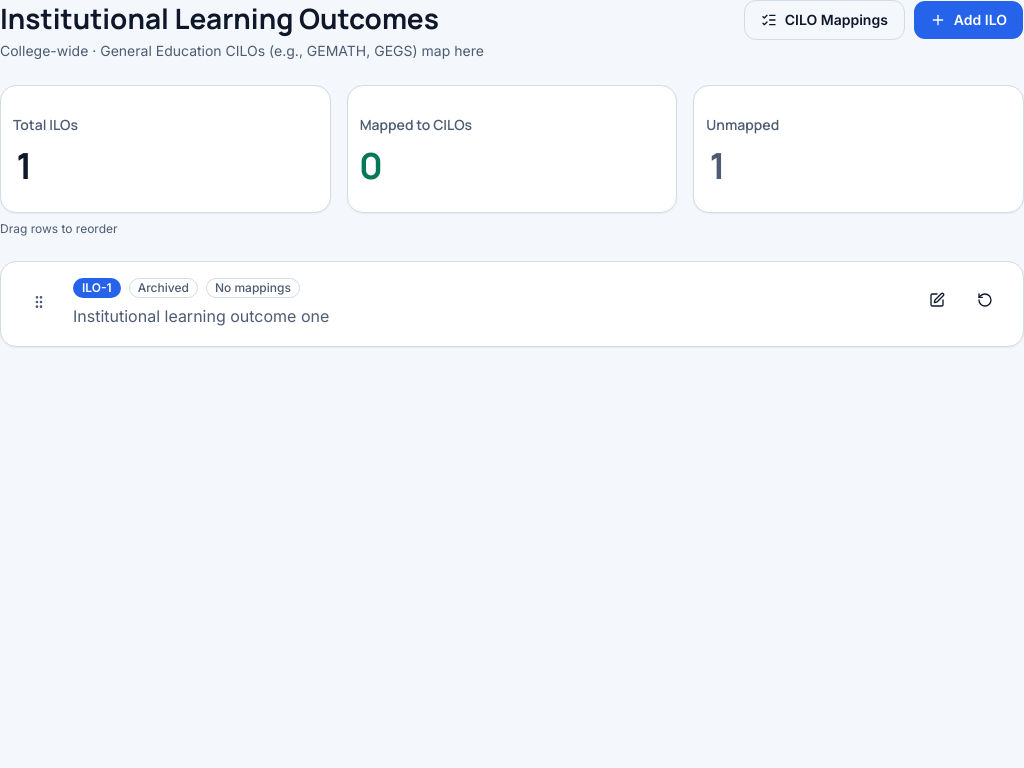
it: GenEdOutcomesPage › keeps restore dialog open and shows error when restore fails
Click the button named "Restore ILO-1".
click(985, 300)  # box [963,278,1007,322]
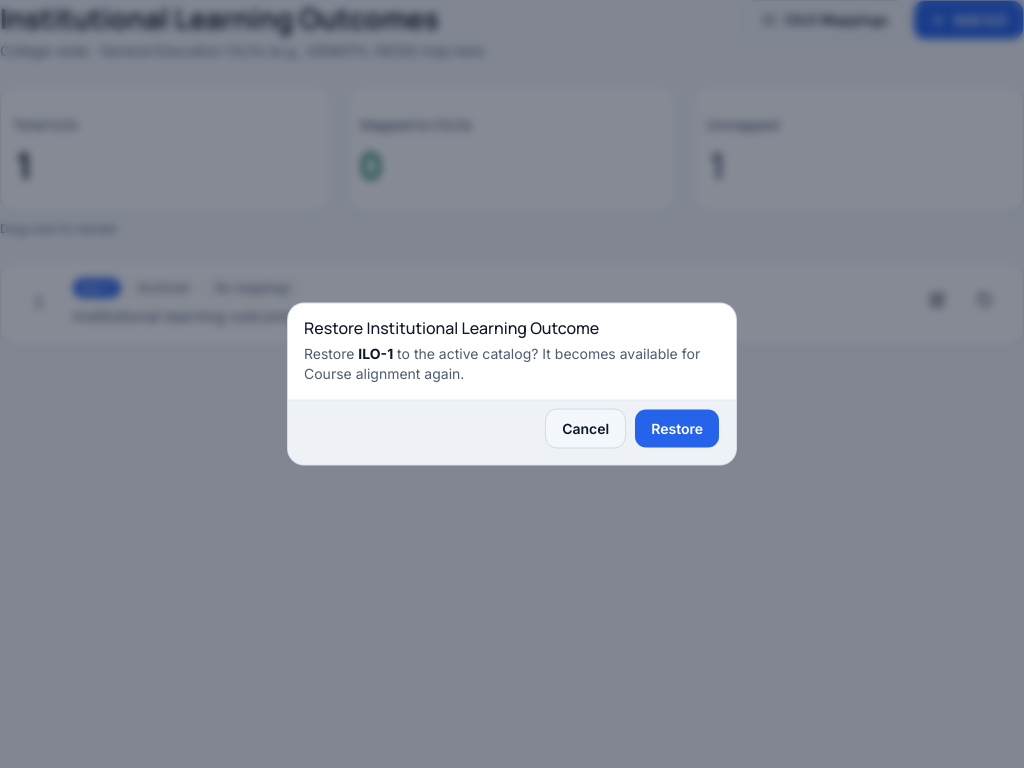
Click the button "Restore".
click(677, 428)  # box [634,408,720,448]
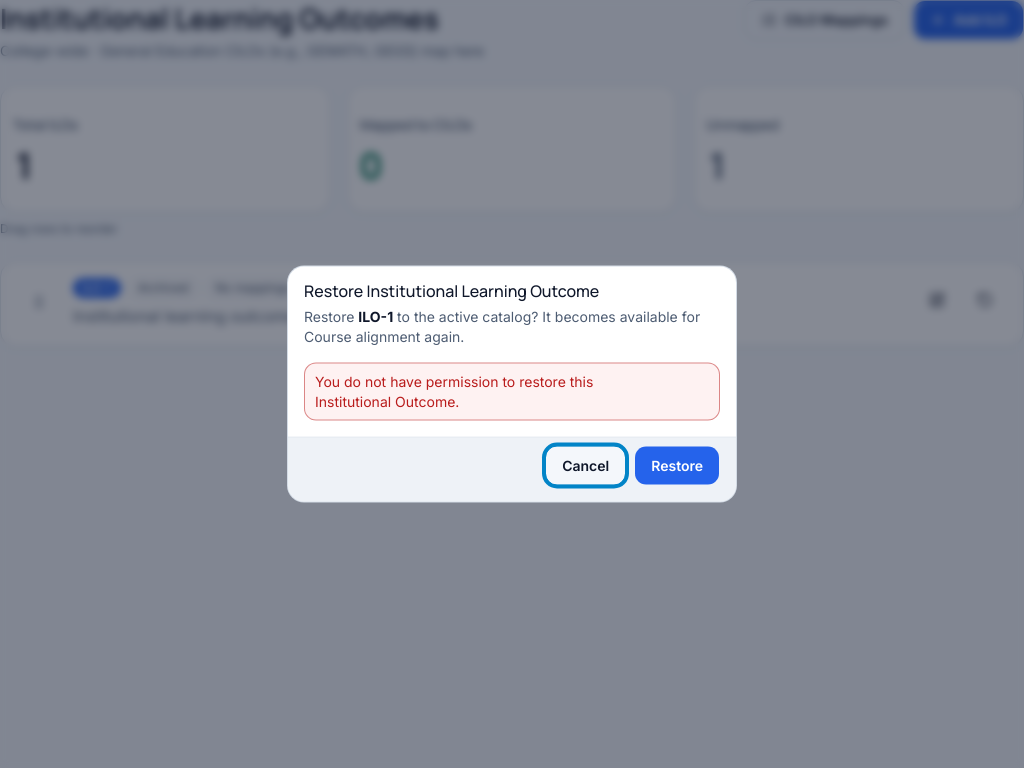
Now the dialog is shown, box [288,266,736,502]
Now the message reads "You do not have permission to restore this Institutional Outcome.", box [315,372,593,410]
